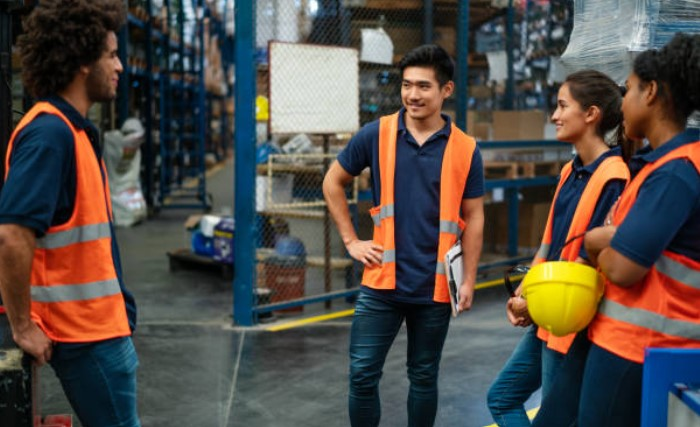worker: (5, 13, 134, 341), (597, 65, 699, 360), (358, 44, 472, 303)
